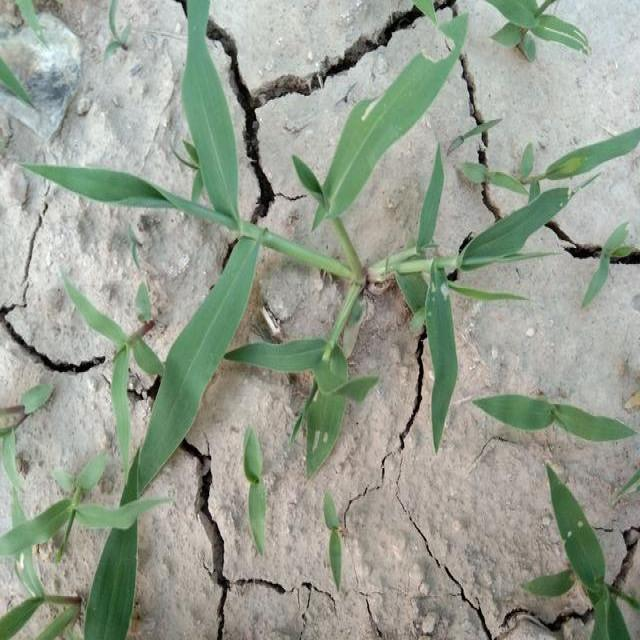weed: (36, 151, 636, 457), (150, 13, 570, 386), (10, 473, 190, 640), (539, 465, 639, 640), (493, 0, 592, 64), (245, 421, 272, 562), (322, 503, 350, 598)
